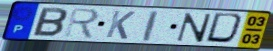B: (30, 7, 69, 39)
D: (203, 12, 247, 46)
I: (142, 10, 160, 43)
K: (104, 10, 137, 41)
N: (174, 12, 214, 44)
R: (63, 7, 101, 41)
